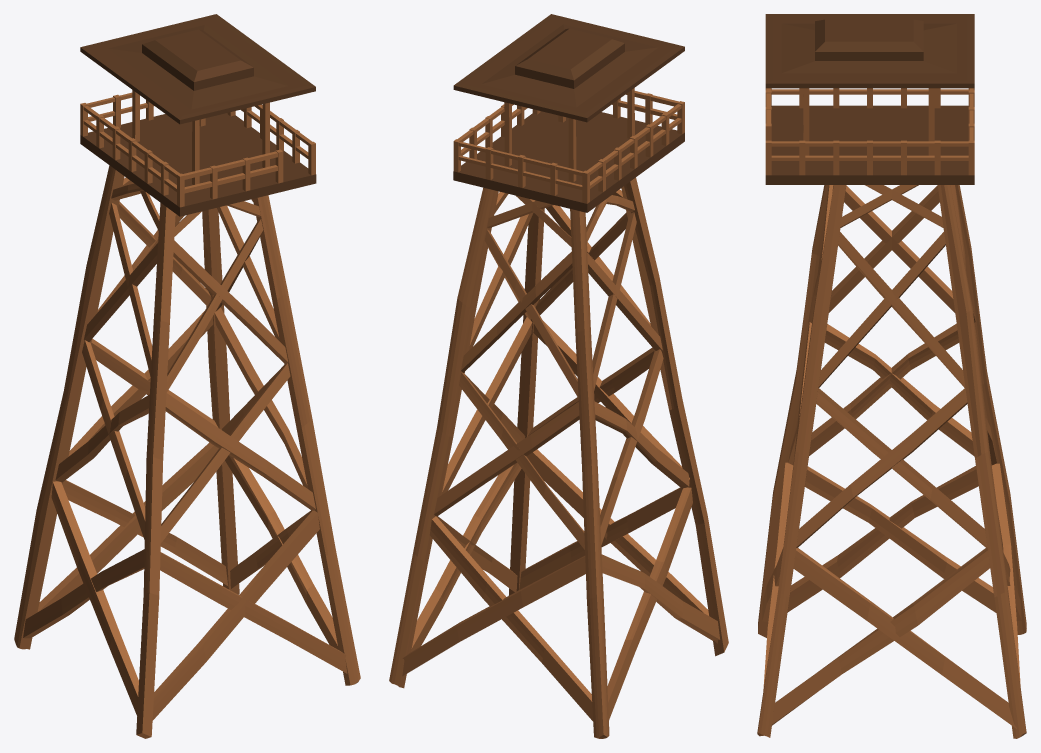
Rendered from early tower finished_Applied.glb.
3 views of the same model, side by side, from view 1: azimuth 30°, elevation 25°; view 2: azimuth 150°, elevation 25°; view 3: azimuth 270°, elevation 25° (orthographic). The views are drawn at different scales.
Visible parts, largest first — view 1: Support Beams-col, Pillar-col, Top-col, Platform-col, Railing-col, RoofPillar-col; view 2: Support Beams-col, Pillar-col, Top-col, Platform-col, Railing-col, RoofPillar-col; view 3: Support Beams-col, Pillar-col, Top-col, Platform-col, Railing-col, RoofPillar-col.
Boxes of the visible parts, left/top/right/bottom form: Support Beams-col: left=23, top=177, right=347, bottom=720; Pillar-col: left=14, top=165, right=360, bottom=738; Top-col: left=80, top=14, right=315, bottom=124; Platform-col: left=80, top=113, right=316, bottom=216; Railing-col: left=80, top=92, right=315, bottom=207; RoofPillar-col: left=132, top=90, right=269, bottom=184; Support Beams-col: left=402, top=189, right=720, bottom=721; Pillar-col: left=389, top=177, right=728, bottom=738; Top-col: left=453, top=14, right=684, bottom=122; Platform-col: left=453, top=111, right=684, bottom=212; Railing-col: left=453, top=91, right=684, bottom=203; RoofPillar-col: left=504, top=88, right=634, bottom=182; Support Beams-col: left=762, top=185, right=1021, bottom=728; Pillar-col: left=757, top=185, right=1026, bottom=738; Top-col: left=765, top=14, right=974, bottom=88; Platform-col: left=765, top=105, right=974, bottom=184; Railing-col: left=765, top=88, right=974, bottom=175; RoofPillar-col: left=803, top=88, right=934, bottom=155.
Bounding box in the file's own units: 9.03 × 24.54 × 9.08.
